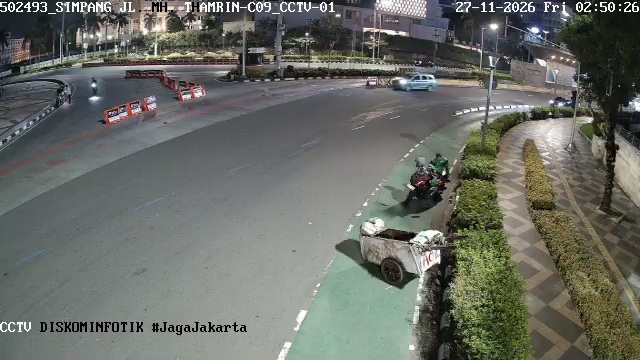Gerobak: (358, 217, 458, 286)
